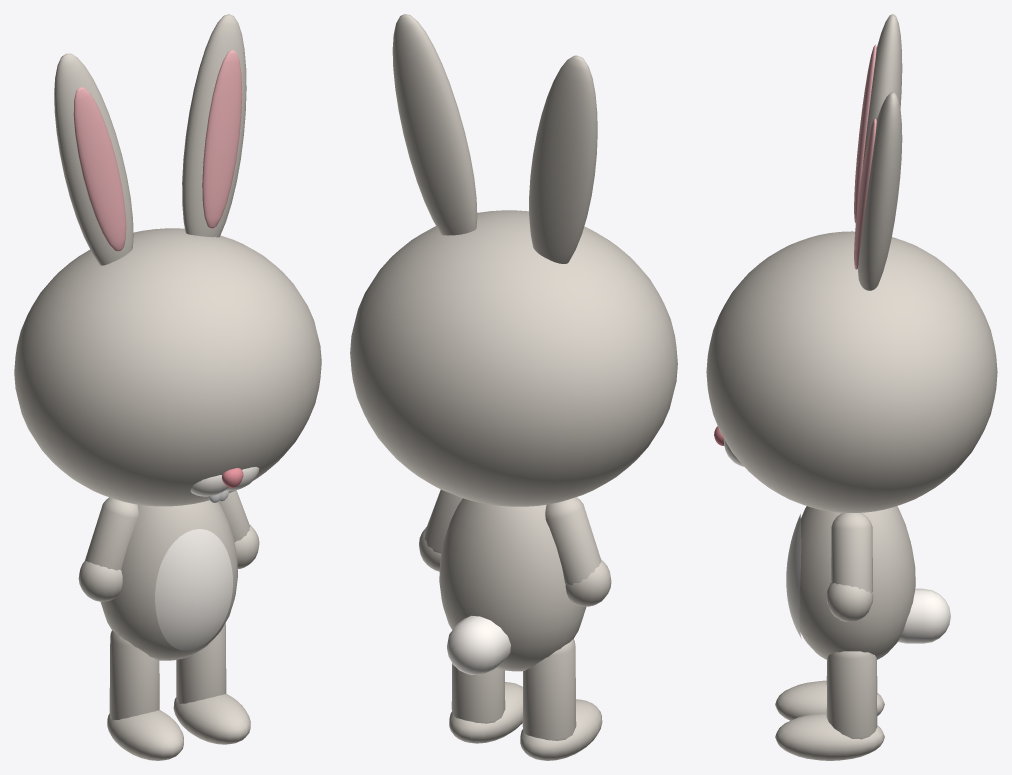
The model's file is animal-rabbit.glb.
3 views of the same model, side by side, from view 1: azimuth 30°, elevation 25°; view 2: azimuth 150°, elevation 25°; view 3: azimuth 270°, elevation 25° (orthographic). The views are drawn at different scales.
Parts seen in each view (by area): view 1: head, torso, belly, ear_L, ear_R, ear_inner_R, ear_inner_L, leg_R, foot_L, foot_R, leg_L, arm_R (+4 smaller); view 2: head, torso, ear_L, ear_R, leg_R, arm_R, tail, leg_L, foot_R, foot_L, hand_R, arm_L; view 3: head, torso, ear_L, leg_L, foot_L, arm_L, ear_R, tail, foot_R, hand_L, belly, ear_inner_L (+1 smaller).
Part boxes in pixels (x1=…): head: x1=14, y1=228, x2=321, y2=506; torso: x1=100, y1=500, x2=237, y2=660; belly: x1=155, y1=529, x2=232, y2=650; ear_L: x1=182, y1=14, x2=246, y2=237; ear_R: x1=54, y1=53, x2=133, y2=265; ear_inner_R: x1=73, y1=87, x2=126, y2=251; ear_inner_L: x1=202, y1=49, x2=242, y2=229; leg_R: x1=109, y1=630, x2=159, y2=720; foot_L: x1=173, y1=693, x2=250, y2=744; foot_R: x1=107, y1=710, x2=183, y2=760; leg_L: x1=176, y1=623, x2=226, y2=704; arm_R: x1=84, y1=497, x2=138, y2=570; head: x1=350, y1=210, x2=677, y2=506; torso: x1=439, y1=498, x2=586, y2=671; ear_L: x1=392, y1=14, x2=477, y2=235; ear_R: x1=529, y1=55, x2=597, y2=263; leg_R: x1=522, y1=639, x2=576, y2=740; arm_R: x1=545, y1=497, x2=601, y2=584; tail: x1=447, y1=615, x2=510, y2=675; leg_L: x1=451, y1=663, x2=505, y2=723; foot_R: x1=520, y1=699, x2=602, y2=760; foot_L: x1=449, y1=682, x2=522, y2=743; hand_R: x1=565, y1=559, x2=611, y2=606; arm_L: x1=424, y1=489, x2=462, y2=553; head: x1=706, y1=231, x2=997, y2=512; torso: x1=799, y1=506, x2=915, y2=659; ear_L: x1=857, y1=92, x2=902, y2=290; leg_L: x1=826, y1=651, x2=877, y2=739; foot_L: x1=775, y1=713, x2=884, y2=760; arm_L: x1=831, y1=513, x2=872, y2=592; ear_R: x1=862, y1=14, x2=902, y2=166; tail: x1=898, y1=588, x2=950, y2=643; foot_R: x1=775, y1=680, x2=884, y2=720; hand_L: x1=826, y1=582, x2=873, y2=622; belly: x1=786, y1=514, x2=801, y2=638; ear_inner_L: x1=854, y1=118, x2=876, y2=269.
Size of the model in its own units: 0.57 by 1.38 by 0.53.
